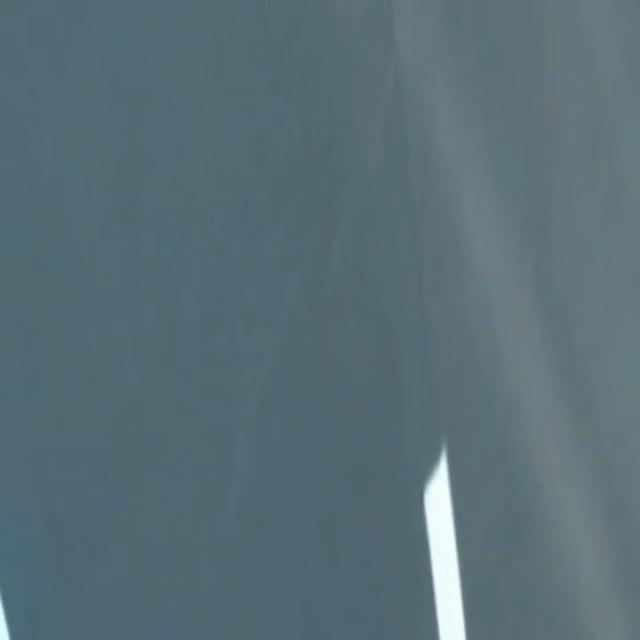center: (423, 444, 466, 639)
left: (0, 594, 10, 639)
